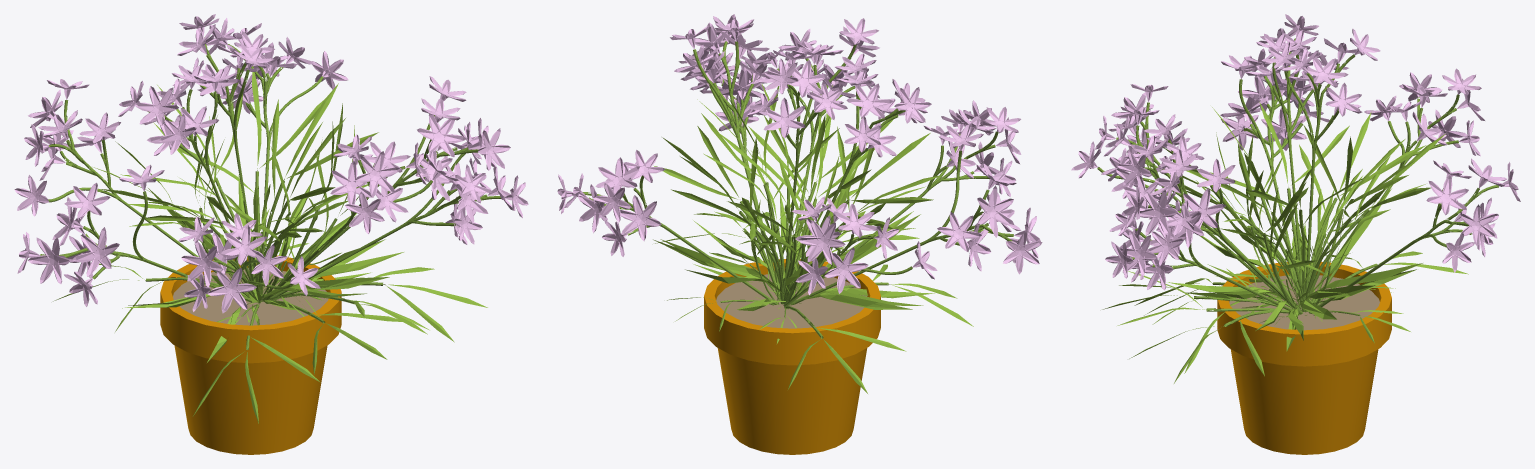
The model's file is flower-processed.glb.
3 renders of one model, left to right at view 1: azimuth 30°, elevation 25°; view 2: azimuth 150°, elevation 25°; view 3: azimuth 270°, elevation 25°, orthographic. The views are drawn at different scales.
Visible parts, largest first — view 1: Flowers, Grass, Pot, Stems, Tube002; view 2: Flowers, Grass, Pot, Stems, Tube002; view 3: Flowers, Grass, Pot, Stems, Tube002.
Part boxes in pixels (x1,y1,x2,y2): Flowers: [14, 14, 528, 313]; Grass: [53, 66, 487, 423]; Pot: [173, 268, 328, 454]; Stems: [40, 37, 501, 350]; Tube002: [160, 255, 341, 363]; Flowers: [557, 14, 1042, 295]; Grass: [653, 84, 973, 393]; Pot: [716, 274, 867, 454]; Stems: [583, 41, 1013, 338]; Tube002: [704, 259, 880, 365]; Flowers: [1071, 14, 1520, 290]; Grass: [1102, 102, 1468, 383]; Pot: [1229, 275, 1379, 454]; Stems: [1097, 38, 1498, 326]; Tube002: [1217, 261, 1391, 366].
Bounding box in the file's own units: 72.09 × 64.25 × 67.69.
